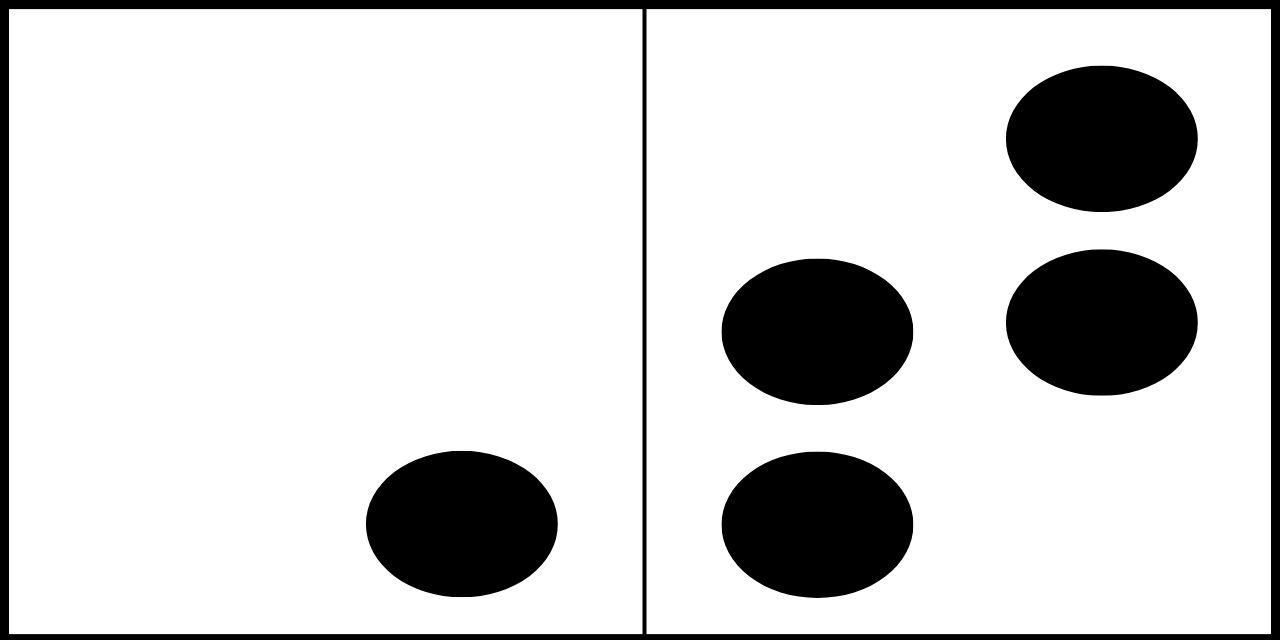T: (720, 63, 1198, 604)
capital: (169, 67, 560, 598)
